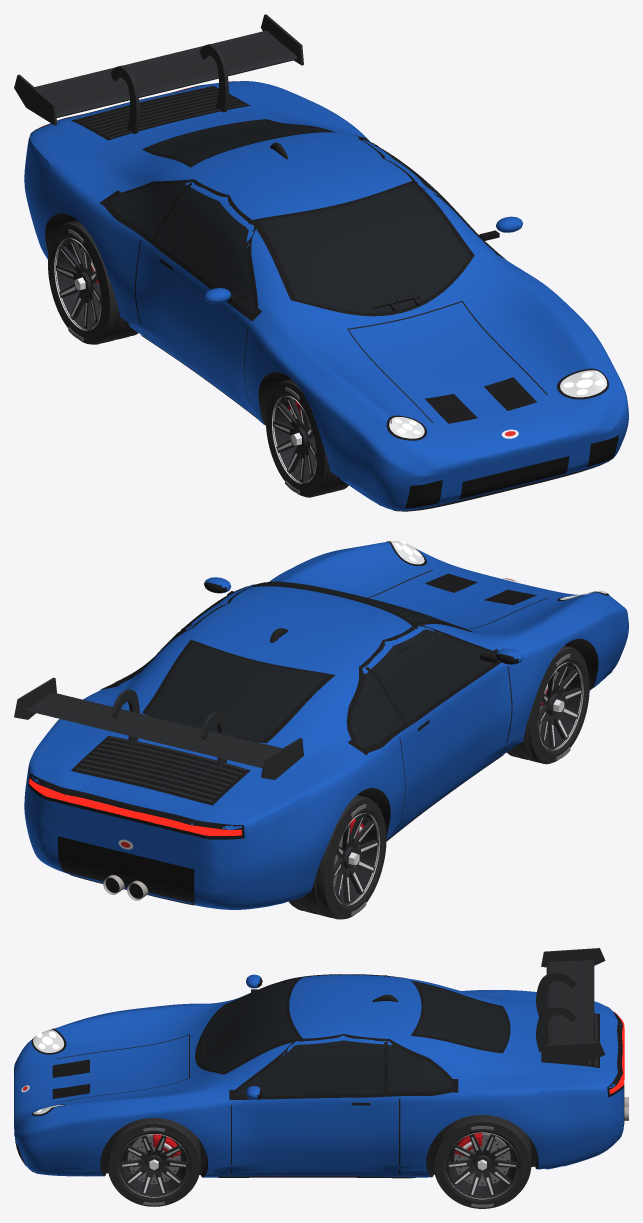
3 views of the same model, one above another, from view 1: azimuth 30°, elevation 25°; view 2: azimuth 150°, elevation 25°; view 3: azimuth 270°, elevation 25° (orthographic). The views are drawn at different scales.
Visible parts, largest first — view 1: Body, Wheel_RR, Wheel_FR; view 2: Body, Wheel_RR, Wheel_FR; view 3: Body, Wheel_RL, Wheel_FL.
Part boxes in pixels (x1,y1,x2,y2): Body: (14, 14, 628, 511); Wheel_RR: (48, 220, 138, 344); Wheel_FR: (266, 379, 348, 497); Body: (14, 540, 628, 909); Wheel_RR: (288, 795, 386, 919); Wheel_FR: (507, 645, 589, 764); Body: (14, 948, 628, 1178); Wheel_RL: (433, 1115, 531, 1208); Wheel_FL: (107, 1118, 200, 1206).
Bounding box in the file's own units: 2.14 × 1.38 × 4.61.
